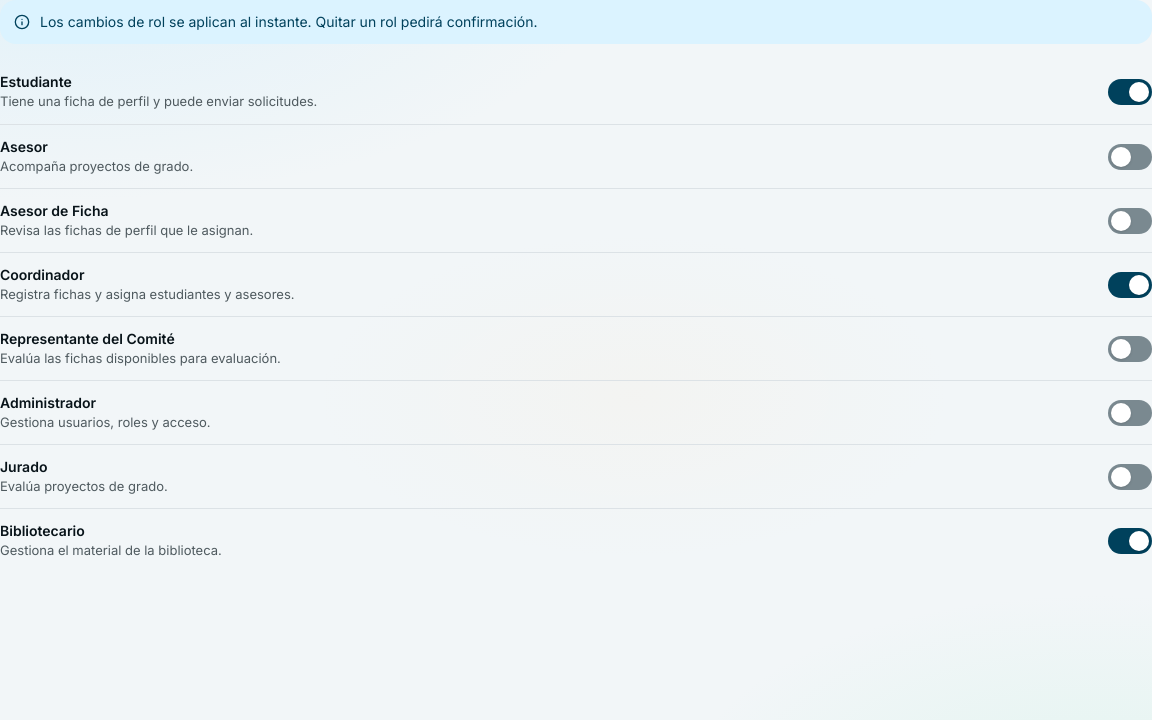
Test: EditarUsuarioRoles › apagar a un bibliotecario vigente pide confirmación, quita el rol con el id y deja el interruptor apagado y habilitado
Click the switch named "Bibliotecario" in the row of "Gestiona el material de la biblioteca." at (1130, 540), box [1108, 528, 1151, 554]
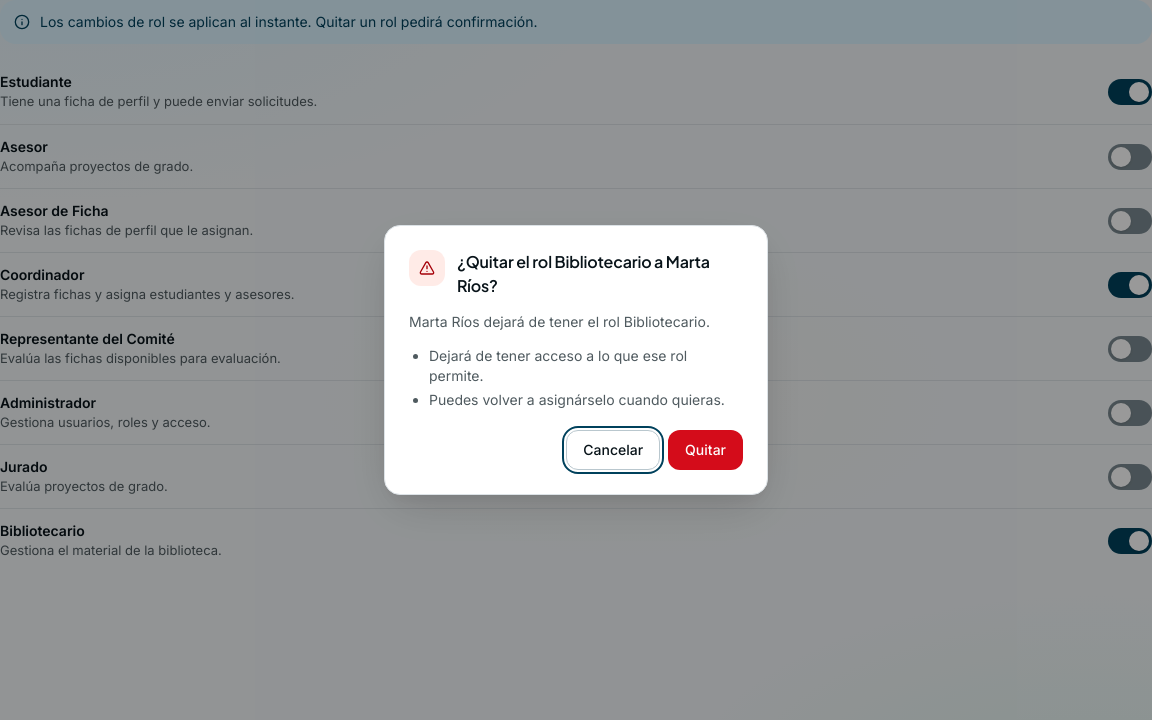
Click the button "Quitar" at (706, 450), box [668, 430, 743, 470]
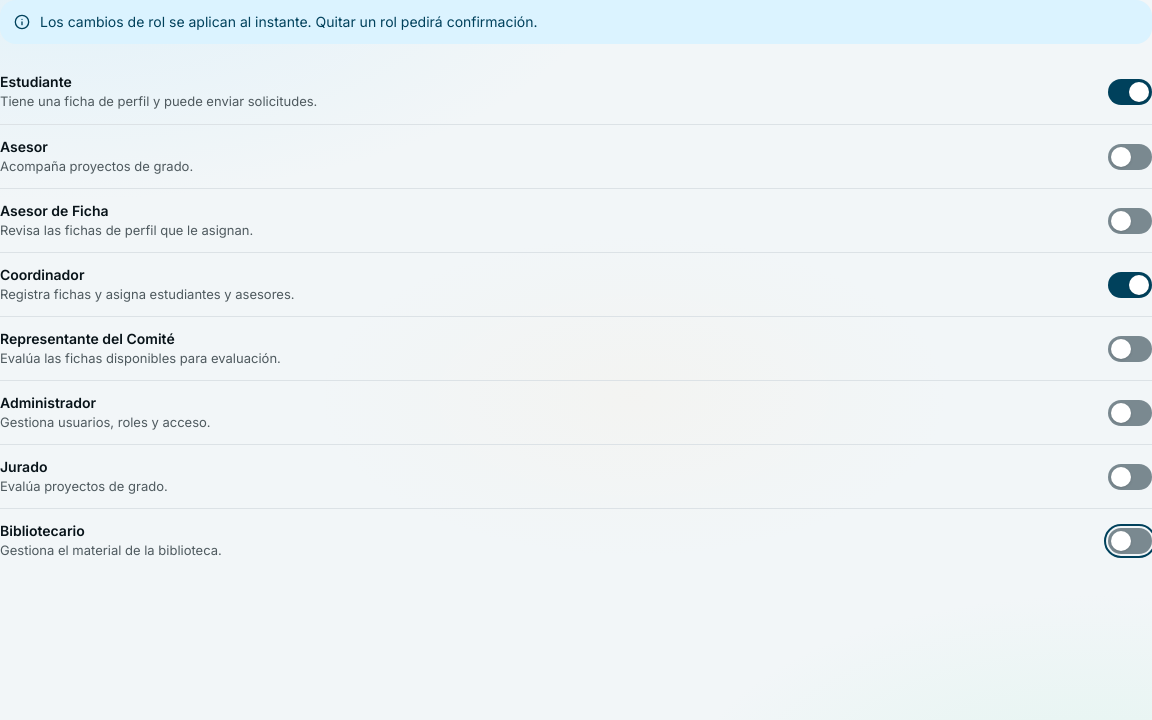
Expected: the switch named "Bibliotecario" in the row of "Gestiona el material de la biblioteca." is enabled, [1108, 528, 1151, 554]
Expected: the switch named "Bibliotecario" in the row of "Gestiona el material de la biblioteca." is not checked, [1108, 528, 1151, 554]
Expected: the dialog is gone
